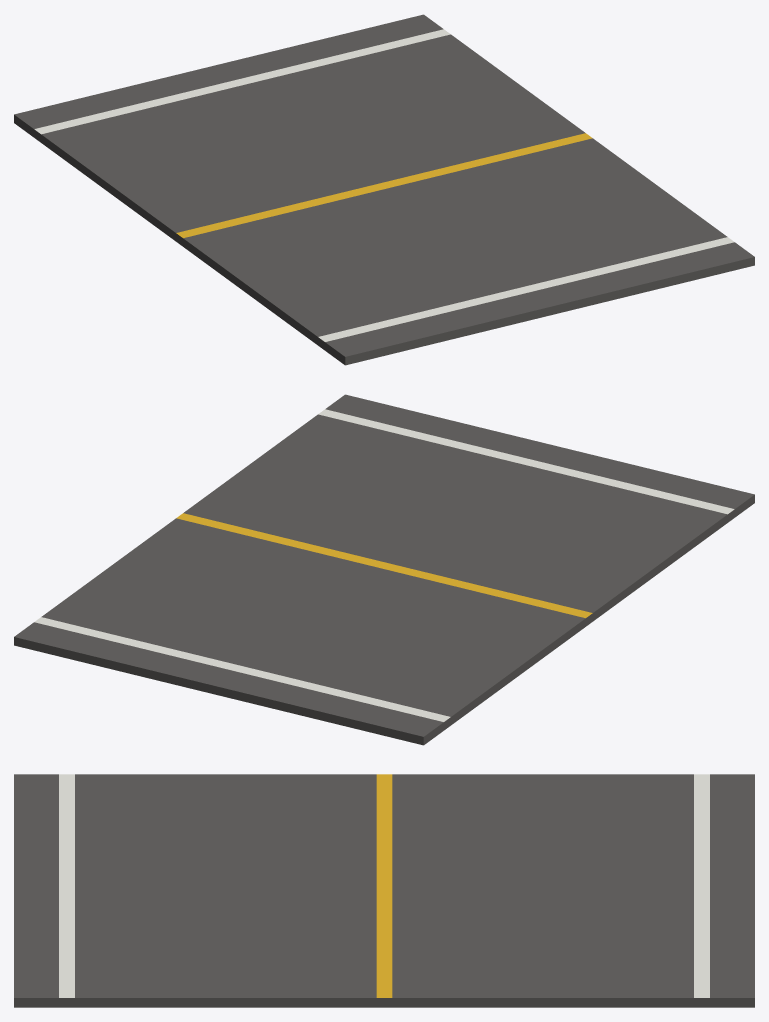
Rendered from SM_Ground_Road_700x500_Yellow_01.fbx.
3 views of the same model, one above another, from view 1: azimuth 30°, elevation 25°; view 2: azimuth 150°, elevation 25°; view 3: azimuth 270°, elevation 25° (orthographic). The views are drawn at different scales.
Visible parts, largest first — view 1: SM_Ground_Road_700x500_Yellow_01; view 2: SM_Ground_Road_700x500_Yellow_01; view 3: SM_Ground_Road_700x500_Yellow_01.
Boxes of the visible parts, x1,y1,x2,y2 form: SM_Ground_Road_700x500_Yellow_01: (14,14,754,365); SM_Ground_Road_700x500_Yellow_01: (14,394,754,745); SM_Ground_Road_700x500_Yellow_01: (14,774,754,1007).
Size of the model in its own units: 5 by 0.1 by 7.
Materials: 1 (1 with a texture image).
